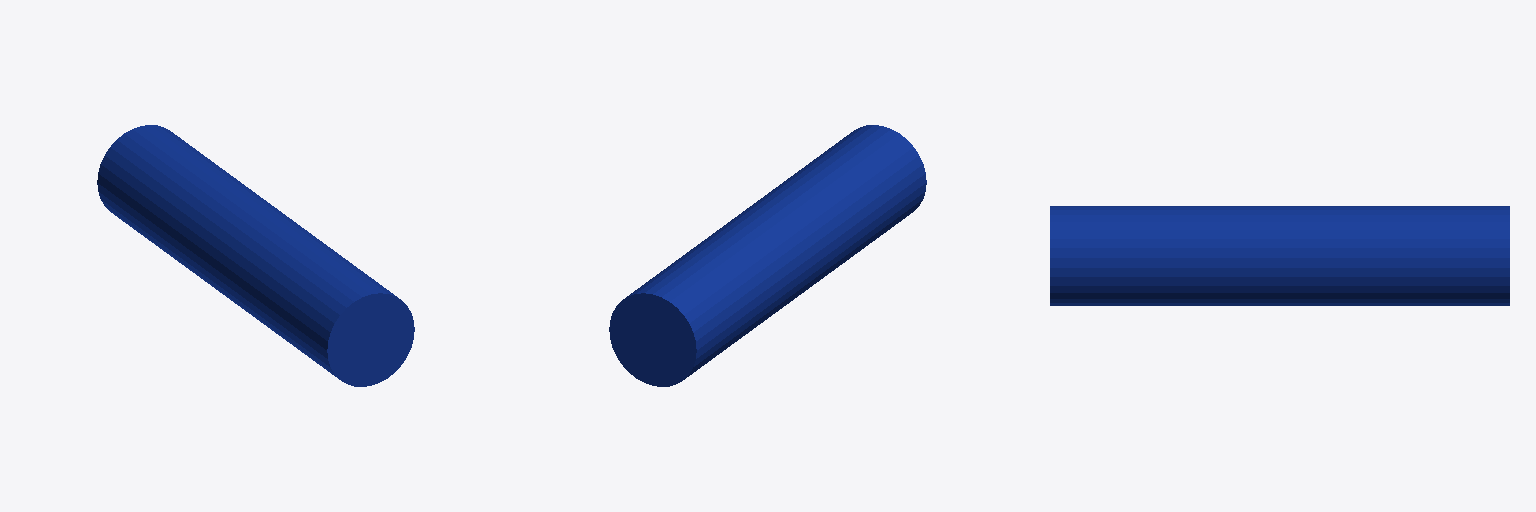
The model's file is SDTip2.OBJ.
3 renders of one model, left to right at view 1: azimuth 30°, elevation 25°; view 2: azimuth 150°, elevation 25°; view 3: azimuth 270°, elevation 25°, orthographic.
Parts seen in each view (by area): view 1: /ambf/env/SDTip2_SDTip2_/ambf/env/SDTip2_SDTip2; view 2: /ambf/env/SDTip2_SDTip2_/ambf/env/SDTip2_SDTip2; view 3: /ambf/env/SDTip2_SDTip2_/ambf/env/SDTip2_SDTip2.
Part boxes in pixels (x1,y1,x2,y2): /ambf/env/SDTip2_SDTip2_/ambf/env/SDTip2_SDTip2: (97, 125, 414, 386); /ambf/env/SDTip2_SDTip2_/ambf/env/SDTip2_SDTip2: (609, 125, 926, 386); /ambf/env/SDTip2_SDTip2_/ambf/env/SDTip2_SDTip2: (1050, 206, 1509, 305).
Size of the model in its own units: 0.044 by 0.044 by 0.2005.